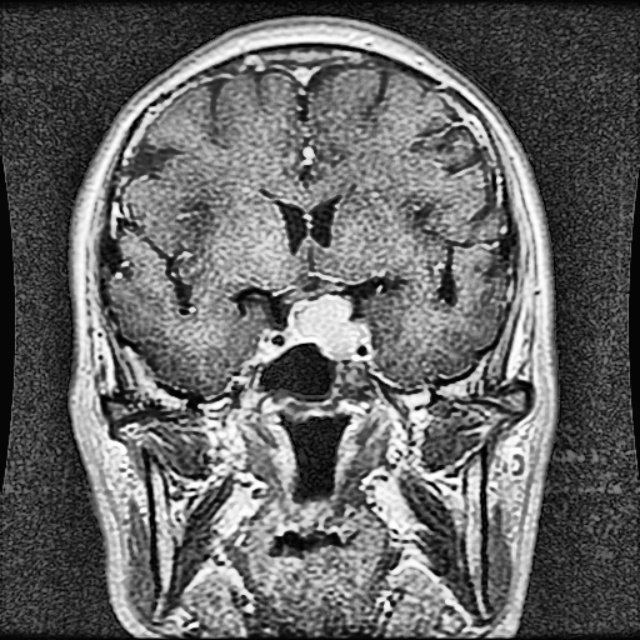Pituitary: (290, 297, 362, 355)
